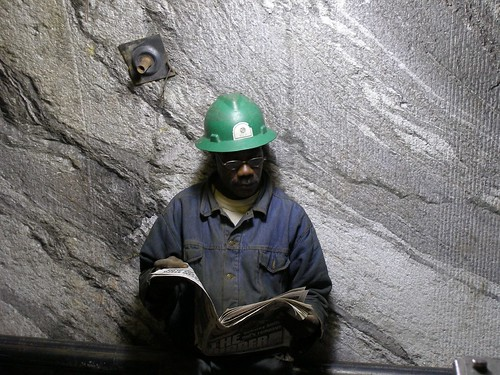person hardhat: (143, 92, 343, 375)
